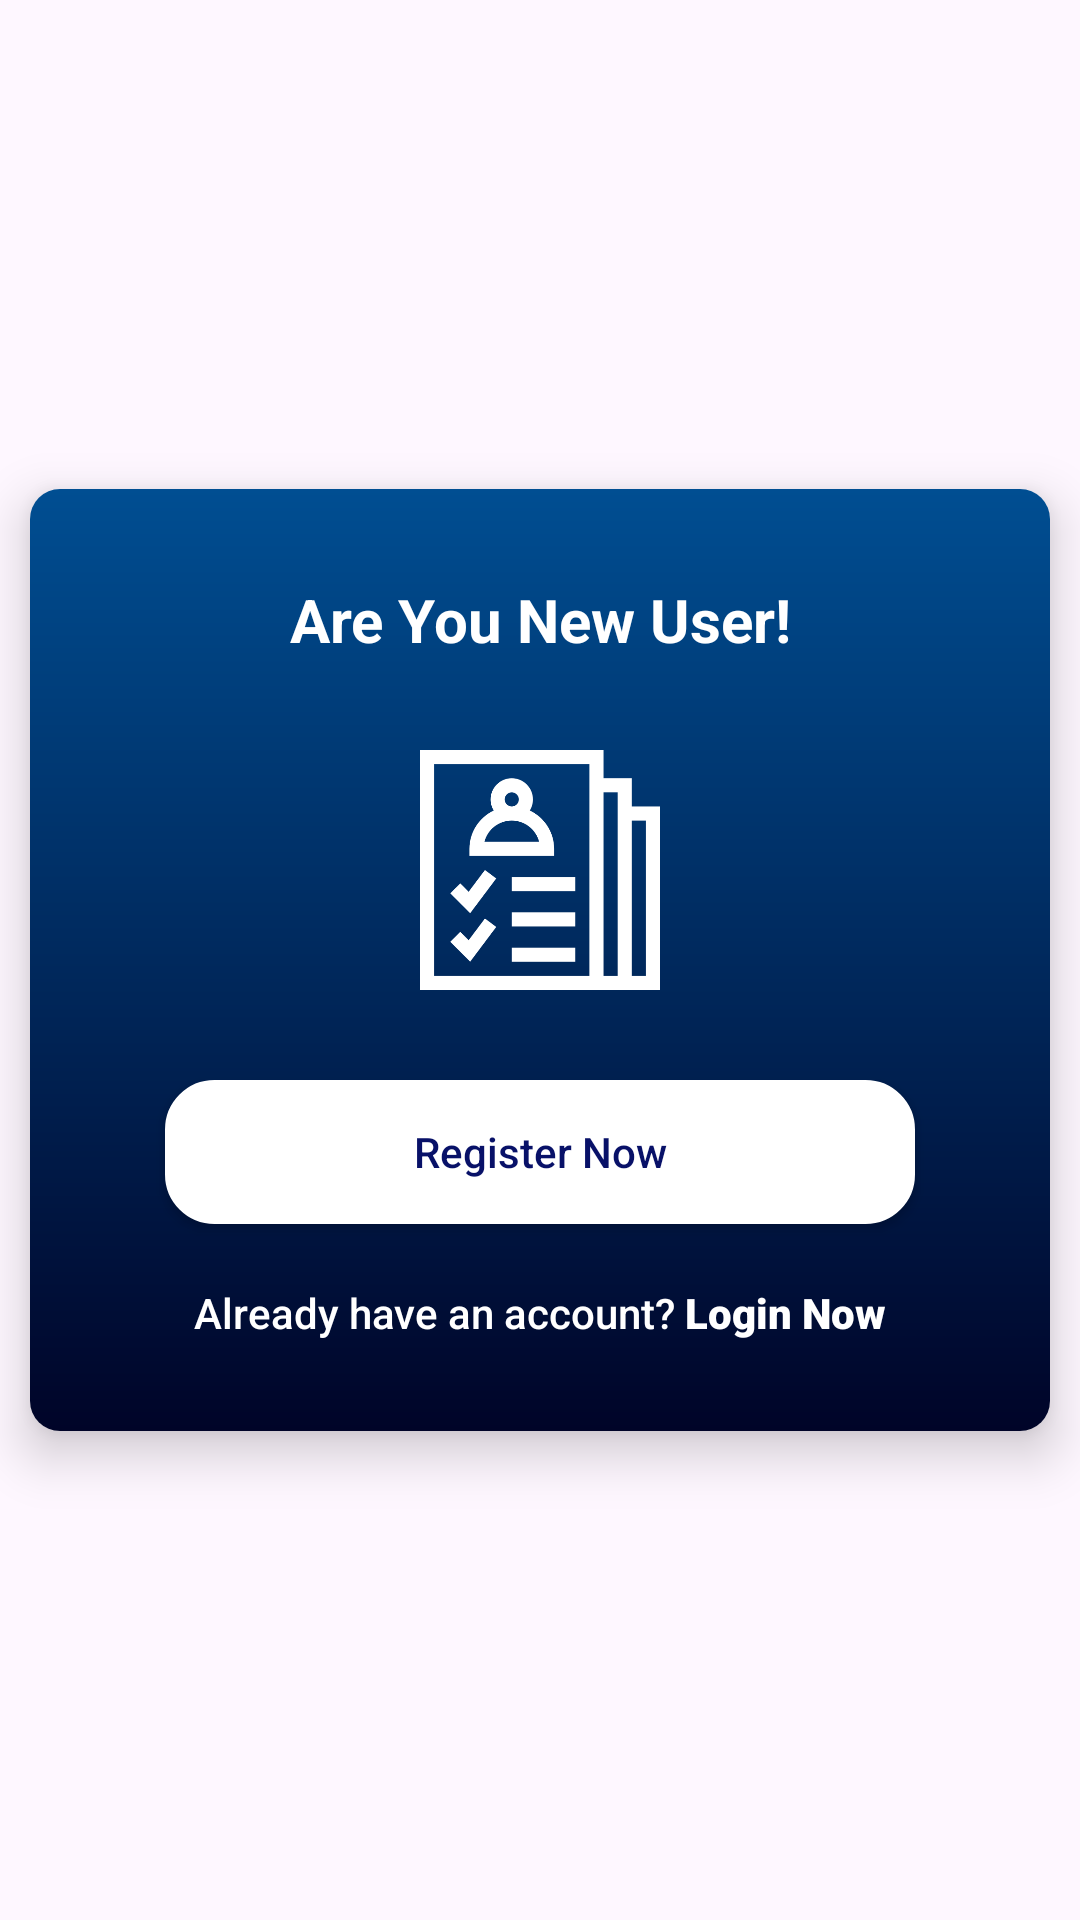

Icons on this 1080 x 1920 Android screen, each with its box as (x1, y1, x2, y2):
registered: (420, 750, 660, 990)
